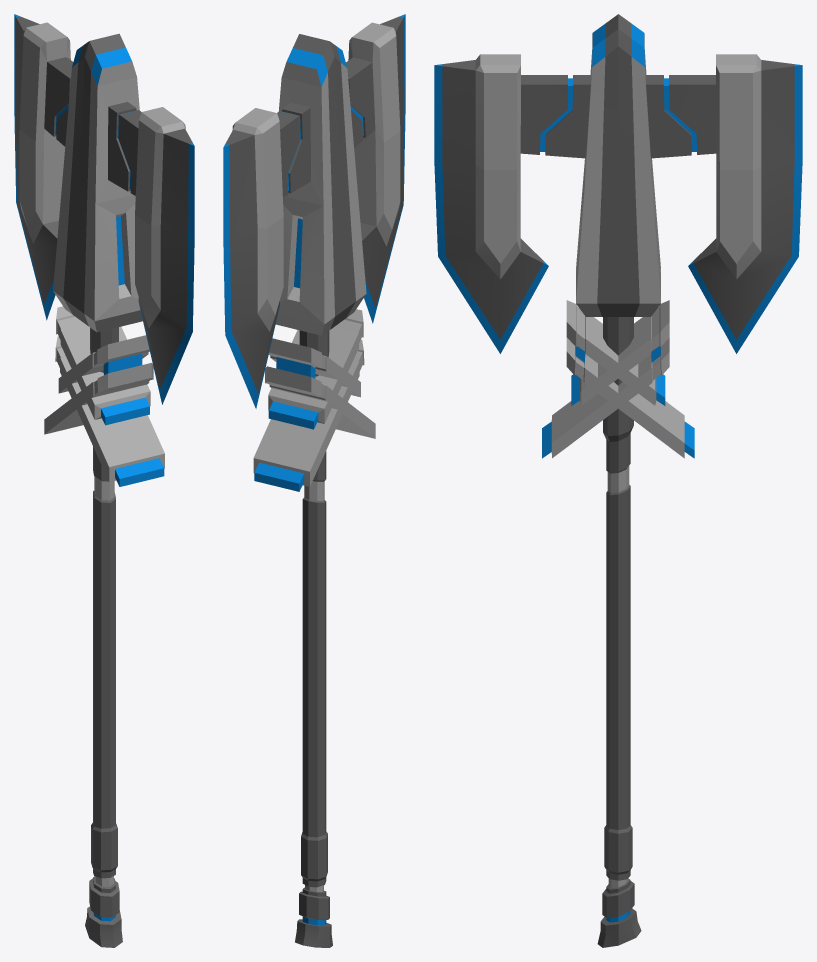
File: Mechanical_Axe.fbx
3 renders of one model, left to right at view 1: azimuth 30°, elevation 25°; view 2: azimuth 150°, elevation 25°; view 3: azimuth 270°, elevation 25°, orthographic. The views are drawn at different scales.
Visible parts, largest first — view 1: pCylinder2; view 2: pCylinder2; view 3: pCylinder2.
Boxes of the visible parts, box(x1,y1,x2,y2) form: pCylinder2: box(14, 14, 194, 947); pCylinder2: box(223, 14, 405, 947); pCylinder2: box(434, 14, 802, 947).
Bounding box in the file's own units: 5.9 × 82.81 × 29.98.
